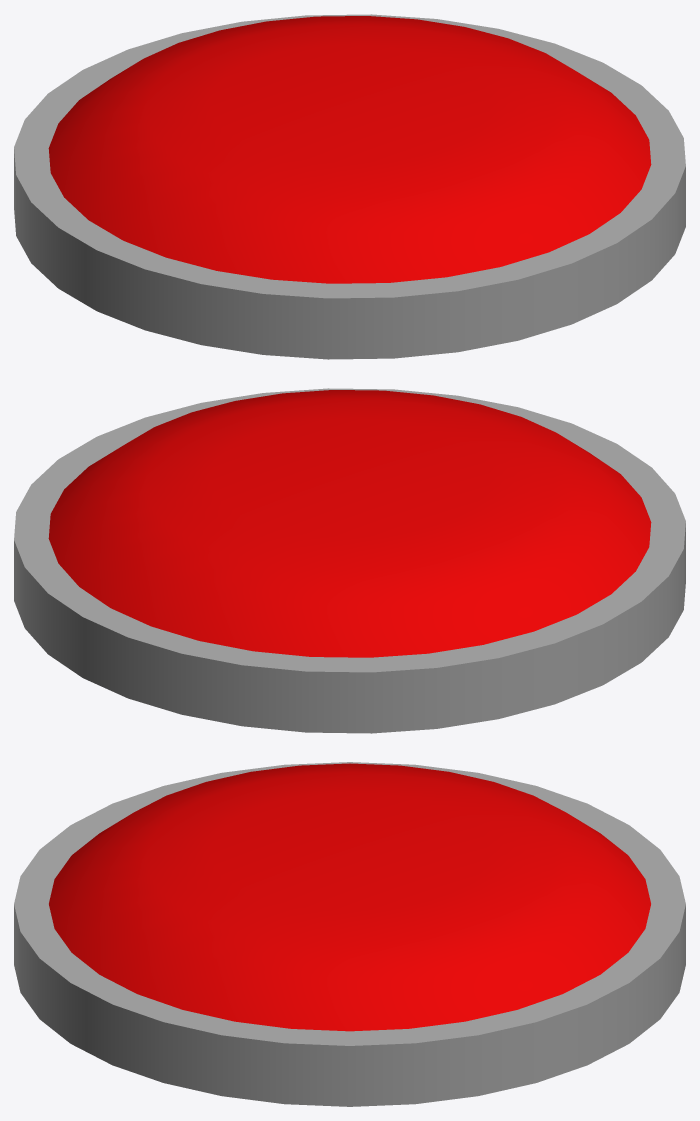
File: Proto_Button.fbx
3 renders of one model, top to bottom at view 1: azimuth 30°, elevation 25°; view 2: azimuth 150°, elevation 25°; view 3: azimuth 270°, elevation 25°, orthographic.
Parts seen in each view (by area): view 1: Button_top, Button_base; view 2: Button_top, Button_base; view 3: Button_top, Button_base.
Boxes of the visible parts, left/top/right/bottom form: Button_top: left=48, top=16, right=651, bottom=283; Button_base: left=14, top=14, right=685, bottom=359; Button_top: left=48, top=390, right=651, bottom=657; Button_base: left=14, top=388, right=685, bottom=733; Button_top: left=49, top=763, right=650, bottom=1031; Button_base: left=14, top=762, right=685, bottom=1106.
Bounding box in the file's own units: 40.85 × 7.6 × 40.85.
